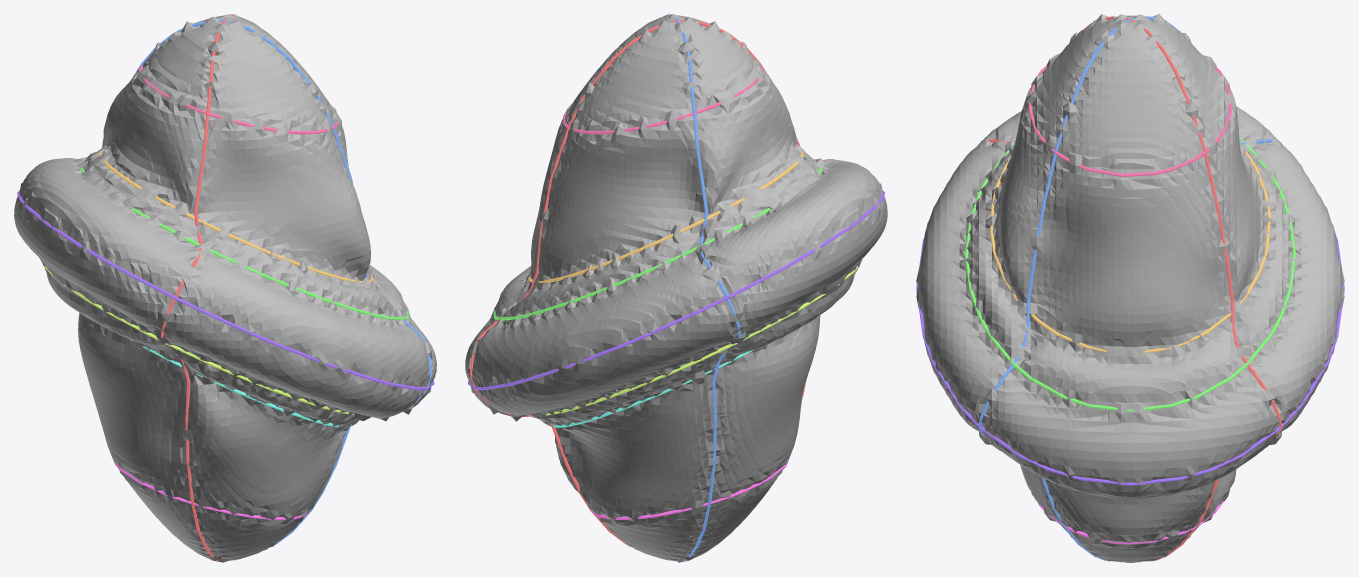
Rendered from flowrep_ellipsetorus.gltf.
3 views of the same model, side by side, from view 1: azimuth 30°, elevation 25°; view 2: azimuth 150°, elevation 25°; view 3: azimuth 270°, elevation 25° (orthographic).
Bounding box in the file's own units: 0.4986 × 0.7134 × 0.5122.
